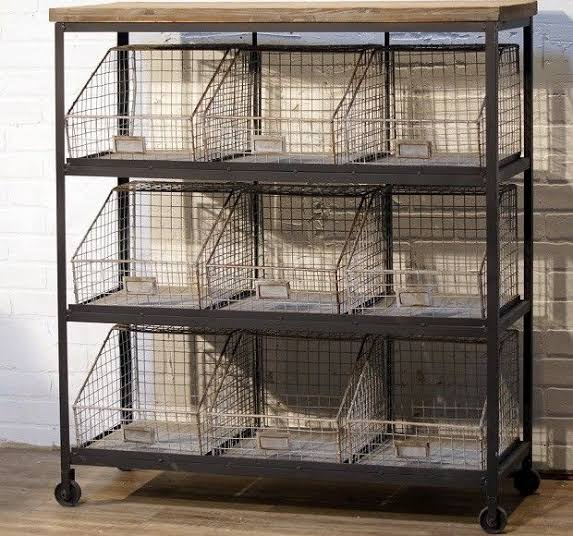Carts: (46, 1, 542, 536)
